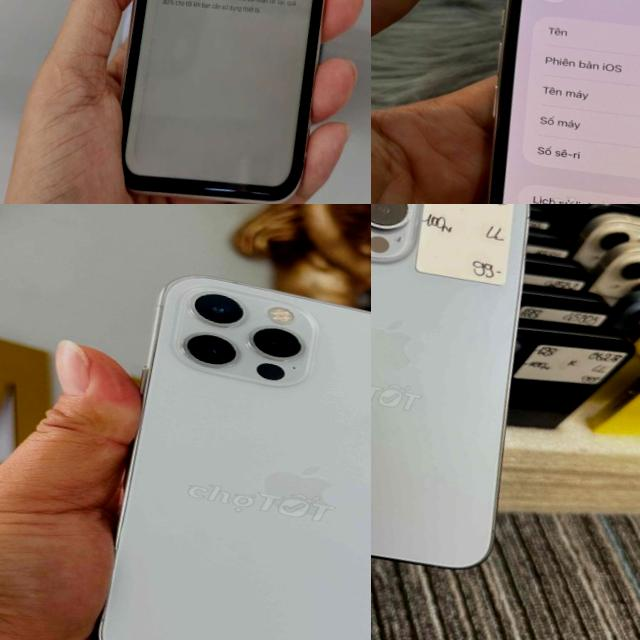gen_11: (412, 0, 640, 204), (123, 0, 323, 200)
gen_12_13: (68, 261, 371, 640), (371, 204, 563, 588)
